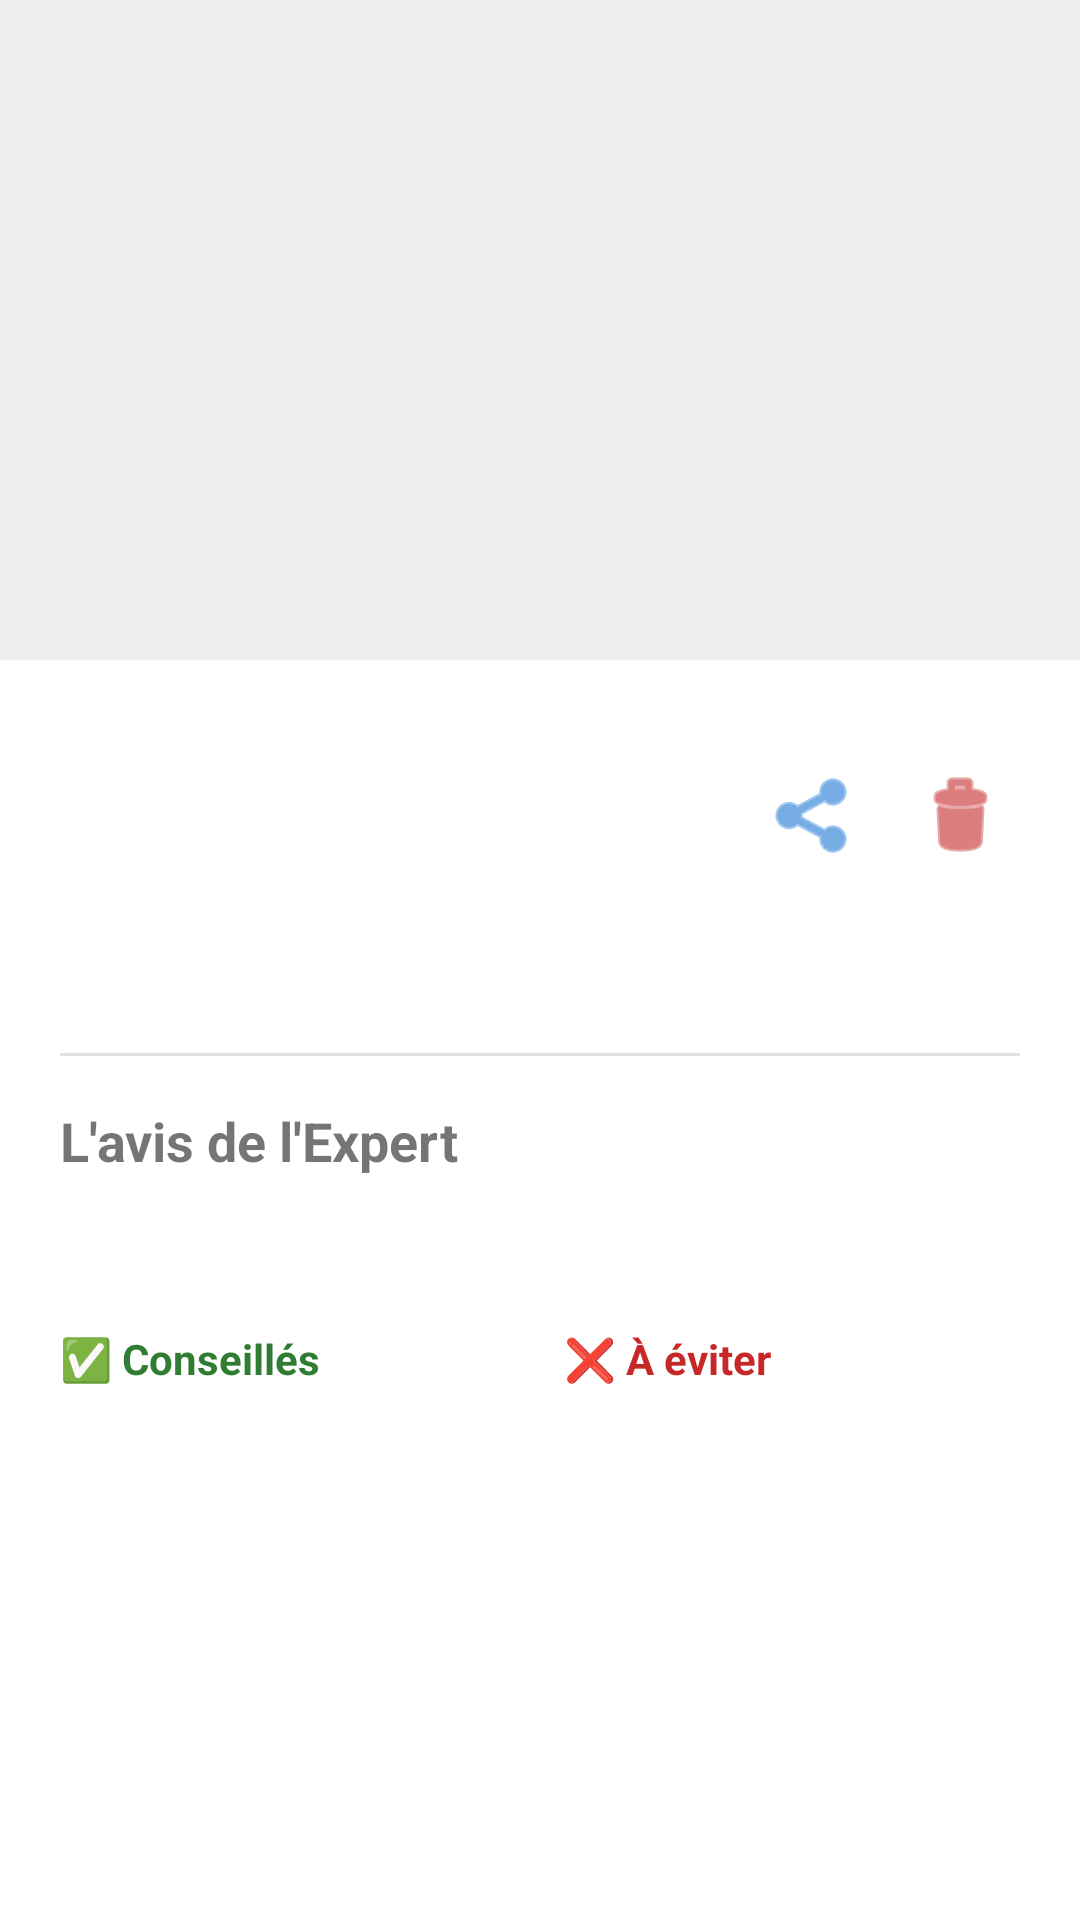

Screen size 1080x1920. Icon name, then its box in pixels as Rect(x1, y1, x2, y2):
delete: Rect(933, 777, 988, 852)
share: Rect(775, 778, 847, 853)
